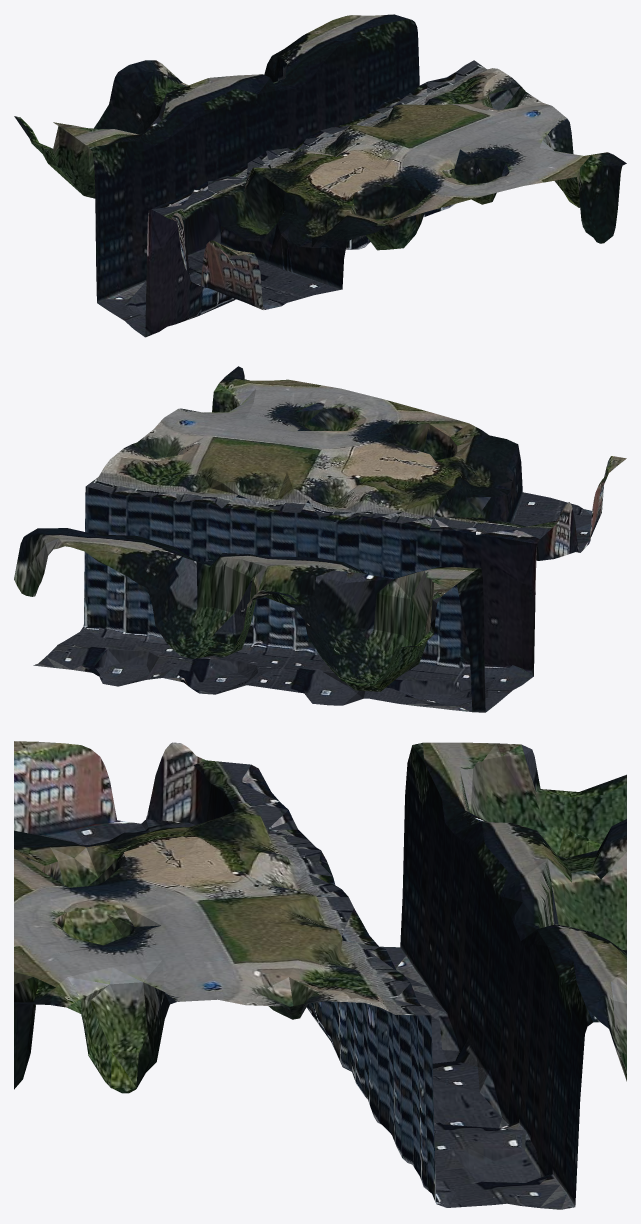
File: map_15_8176_13790.dae
The picture shows the model from 3 angles, top to bottom: view 1: azimuth 30°, elevation 25°; view 2: azimuth 150°, elevation 25°; view 3: azimuth 270°, elevation 25°; orthographic projection. The views are drawn at different scales.
Visible parts, largest first — view 1: Ter0; view 2: Ter0; view 3: Ter0.
Boxes of the visible parts, <box> form: Ter0: <box>14,14,626,337</box>; Ter0: <box>14,366,626,712</box>; Ter0: <box>14,741,626,1209</box>.
Size of the model in its own units: 63.88 by 63.88 by 26.09.
4 materials, 4 textured.
